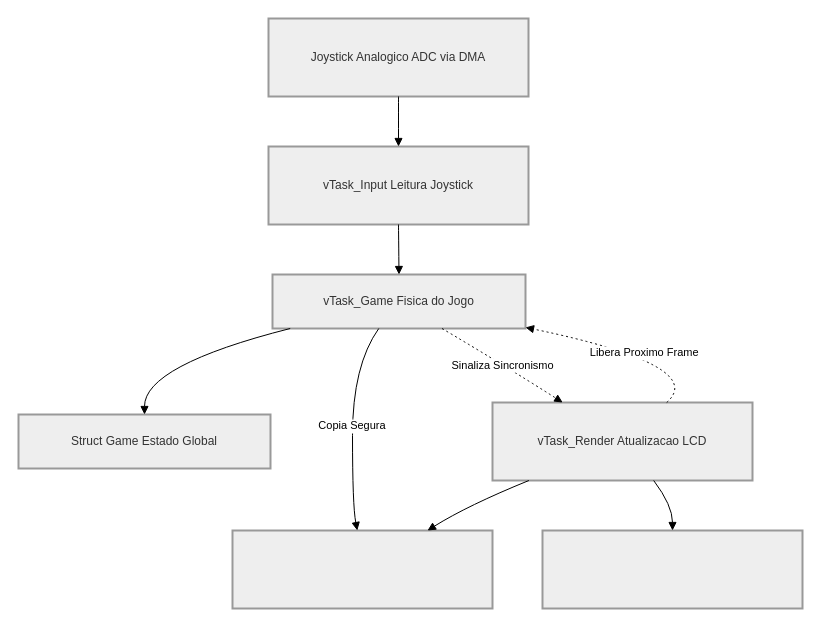
The diagram is 820 pixels wide and 626 high, and some of its shapes have lost their labels. The centre of each missing label's shape, as x and y in pixels:
"Display ST7735 SPI Hardware" belongs at [672,569].
"game_render_copy Buffer Espelho" belongs at [362,569].
